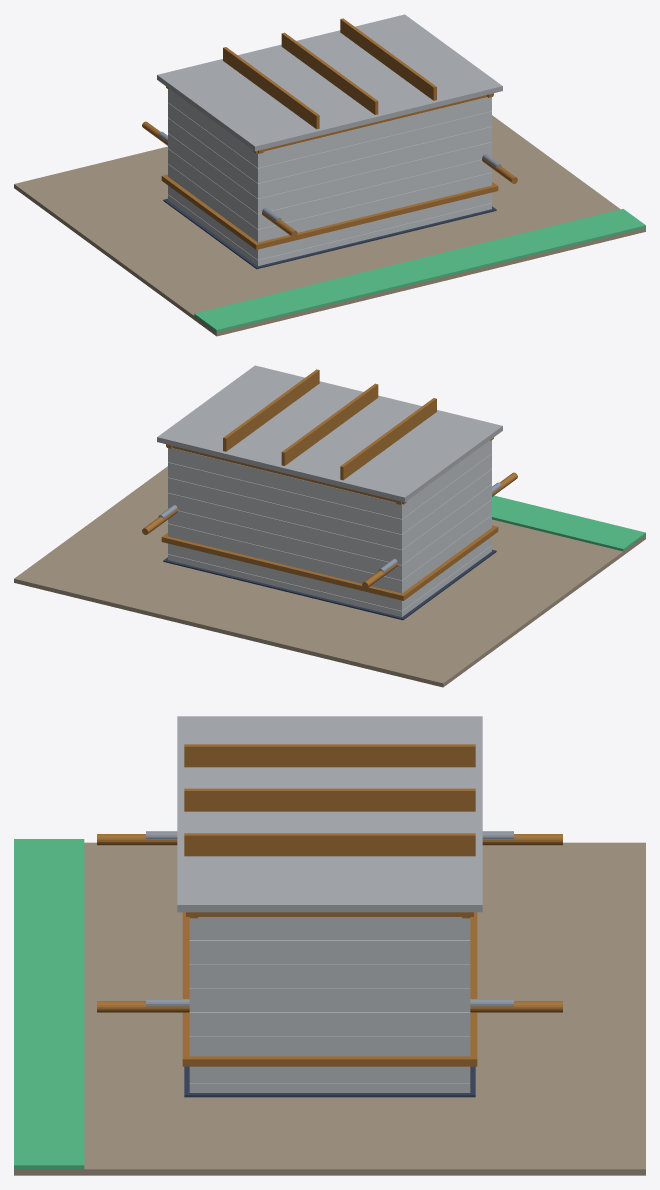
Rendered from stage_11_finishing.glb.
The picture shows the model from 3 angles, top to bottom: view 1: azimuth 30°, elevation 25°; view 2: azimuth 150°, elevation 25°; view 3: azimuth 270°, elevation 25°; orthographic projection. The views are drawn at different scales.
Parts seen in each view (by area): view 1: world; view 2: world; view 3: world.
Boxes of the visible parts, box(x1,y1,x2,y2) form: world: box(14, 14, 645, 336); world: box(14, 365, 645, 687); world: box(14, 716, 645, 1175).
Size of the model in its own units: 11 by 3.59 by 9.
